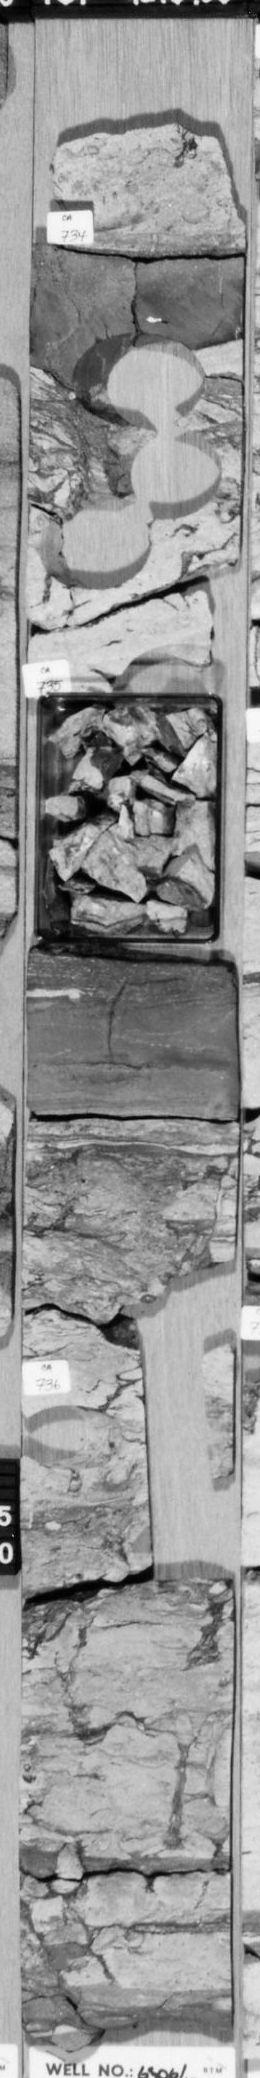hplug: (20, 1398, 129, 1474), (54, 190, 178, 239), (110, 641, 210, 692)
scal: (60, 327, 210, 427), (31, 490, 153, 592), (103, 428, 235, 521)
vplug: (138, 1350, 223, 1586)
